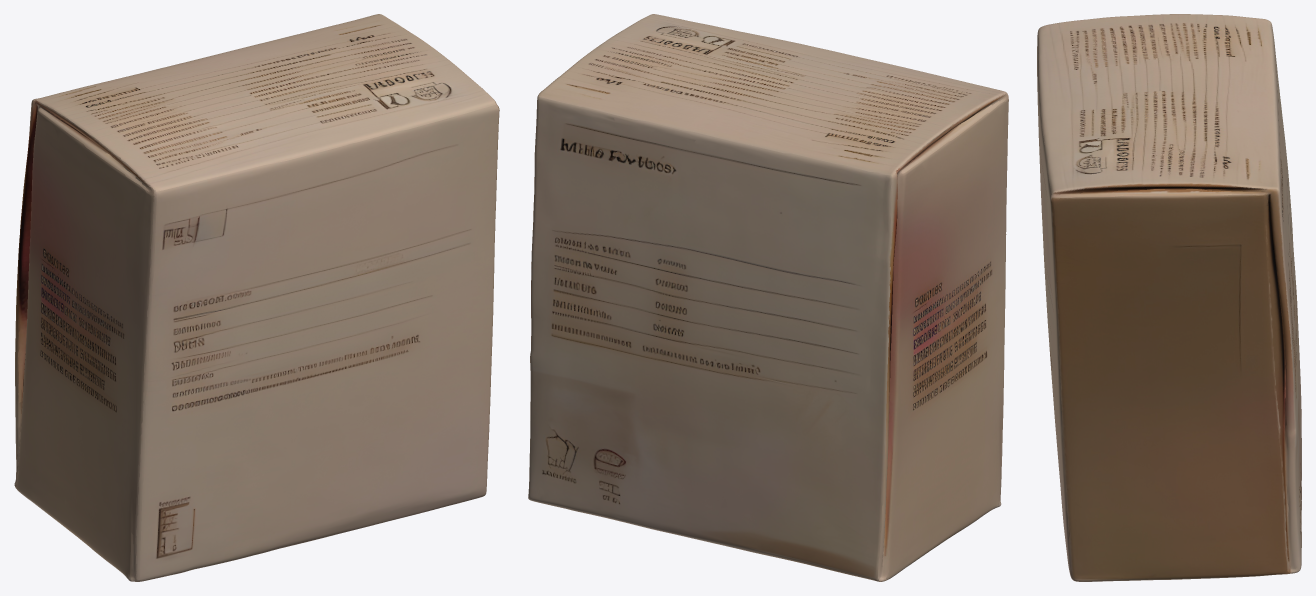
The model's file is iter_5.glb.
The picture shows the model from 3 angles, left to right: view 1: azimuth 30°, elevation 25°; view 2: azimuth 150°, elevation 25°; view 3: azimuth 270°, elevation 25°; orthographic projection. The views are drawn at different scales.
Visible parts, largest first — view 1: textured_mesh; view 2: textured_mesh; view 3: textured_mesh.
Part boxes in pixels (x1,y1,x2,y2): textured_mesh: [14, 14, 499, 581]; textured_mesh: [528, 14, 1008, 581]; textured_mesh: [1037, 14, 1301, 581].
Bounding box in the file's own units: 1.79 × 1.97 × 1.17.
Materials: 1 (1 with a texture image).
